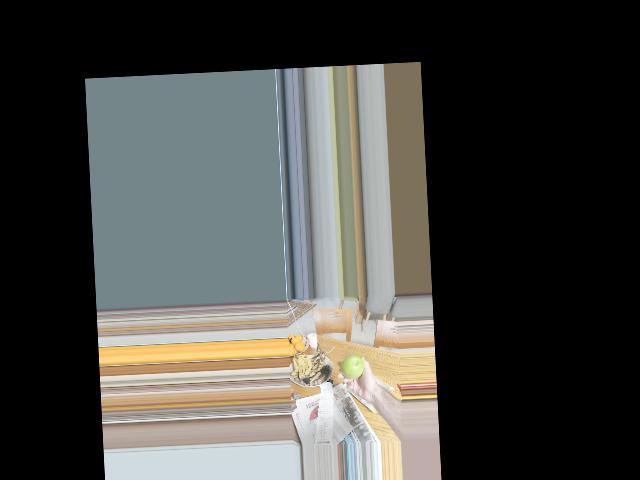apple: (339, 353, 364, 380)
